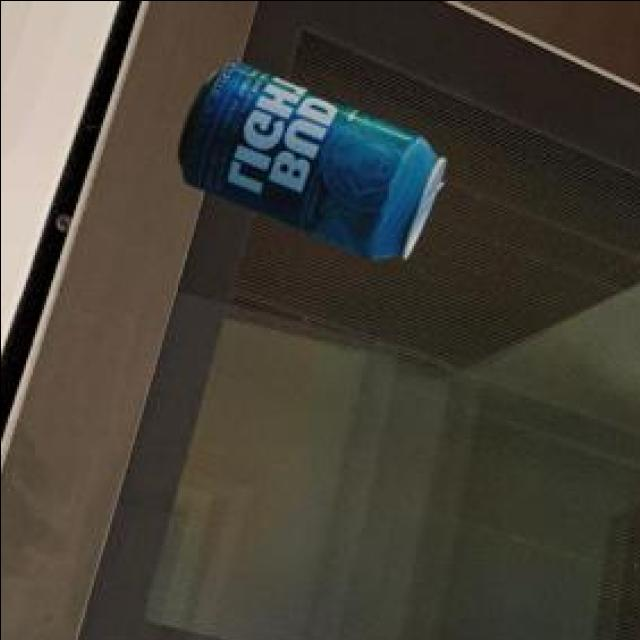logam: (174, 65, 441, 260)
